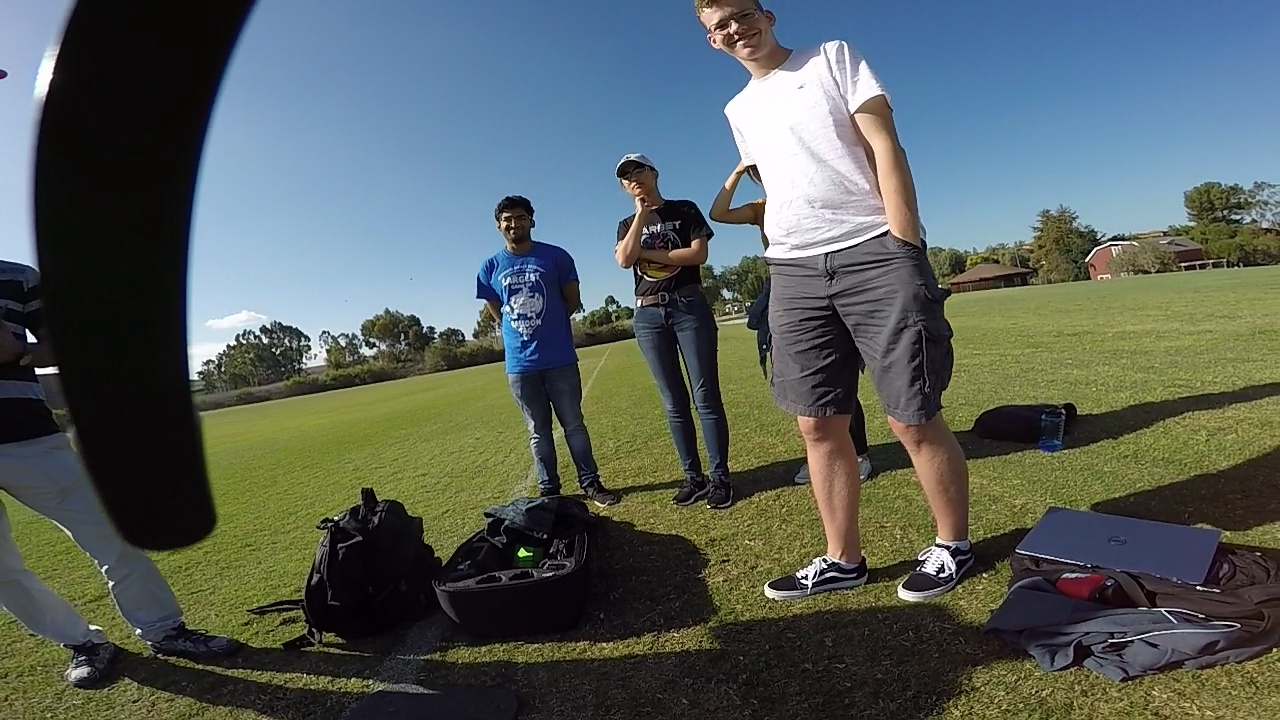person: (686, 0, 983, 608), (7, 83, 252, 675), (0, 278, 231, 682), (469, 191, 615, 504), (606, 149, 734, 504)
